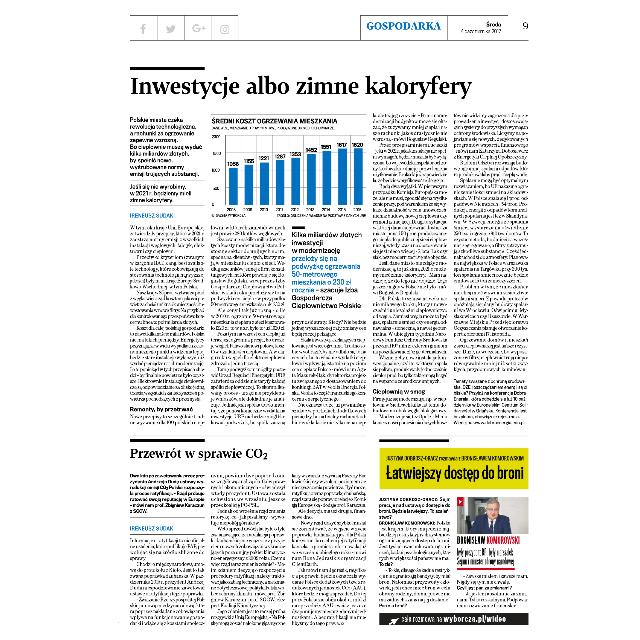article: (129, 66, 533, 428), (128, 440, 370, 630), (378, 439, 534, 629)
